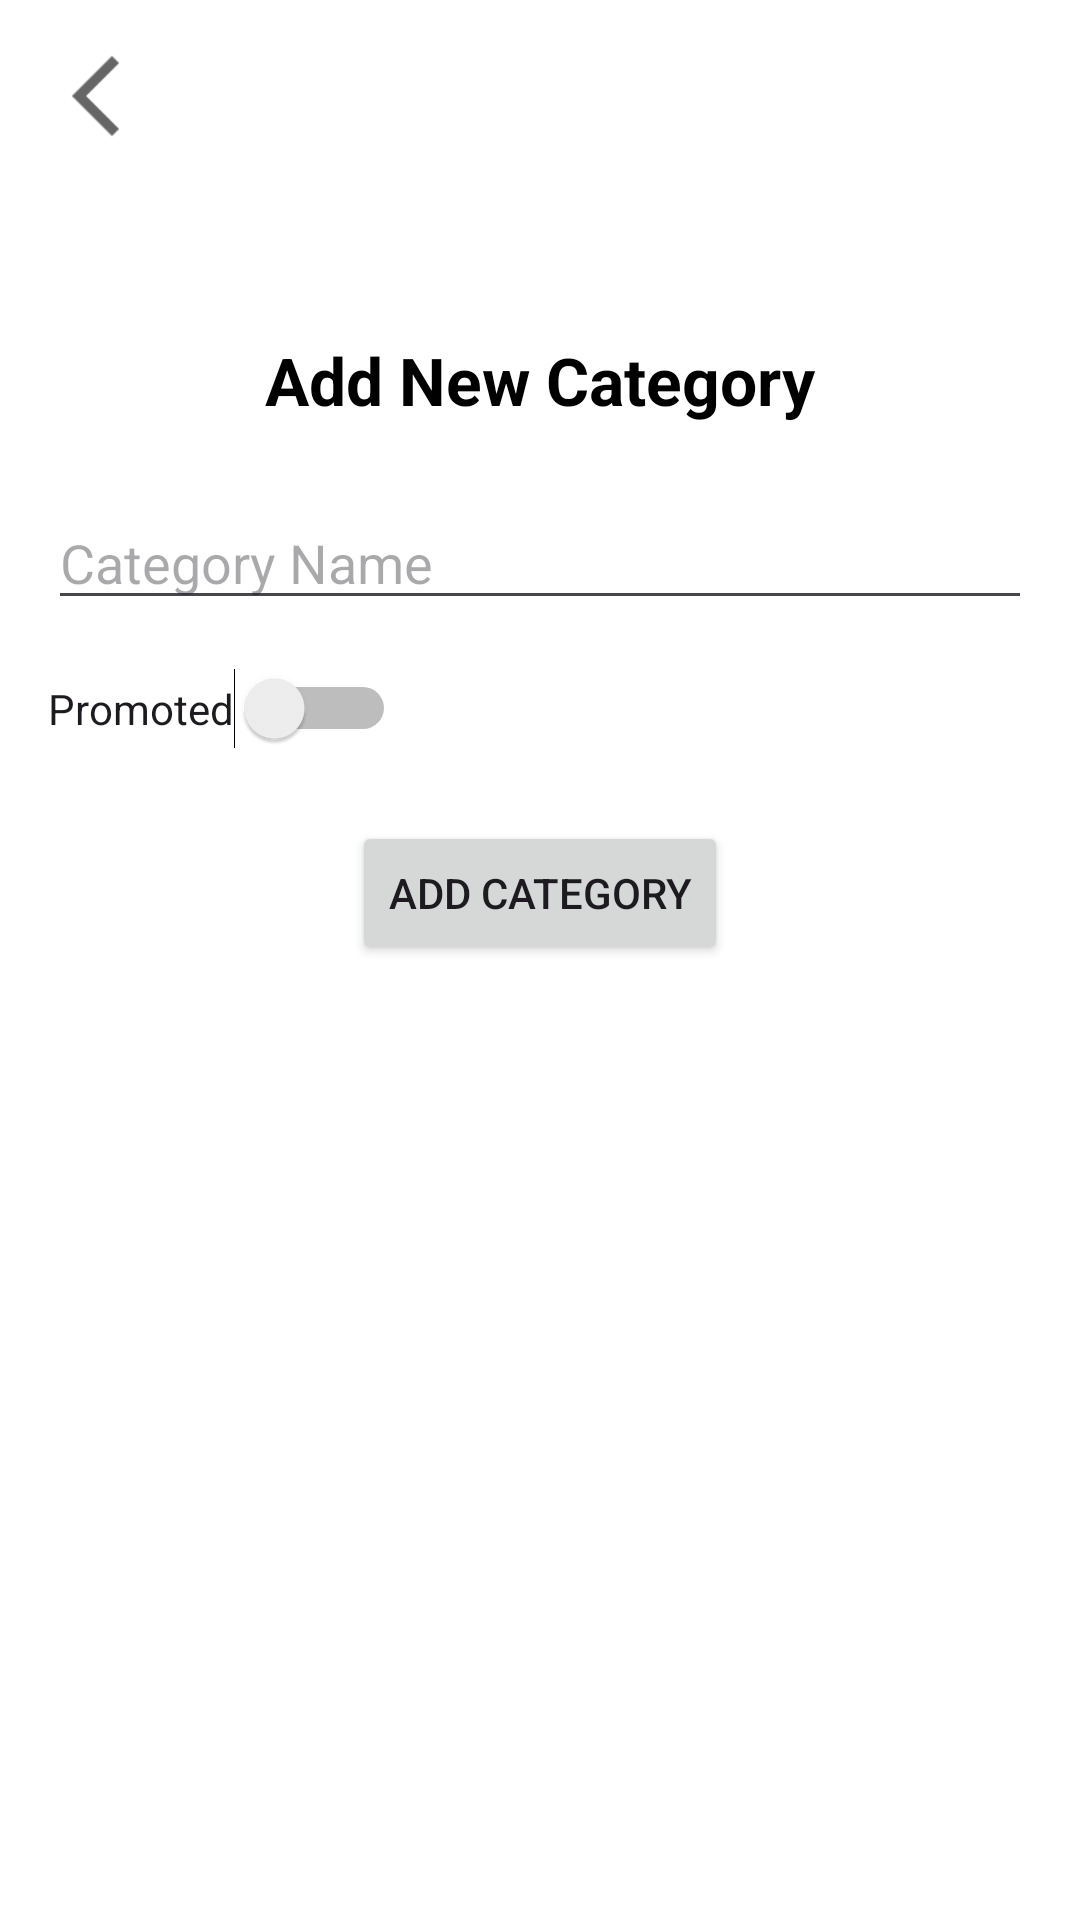

Icon click points for this 1080 x 1920 phone screenshot, format (x,y):
back: (95,96)
